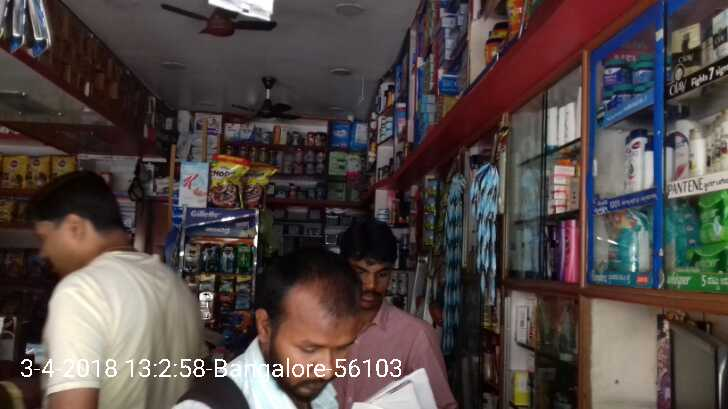vicks: (604, 61, 627, 83), (635, 60, 655, 83), (614, 84, 632, 108), (596, 91, 611, 115), (635, 86, 653, 96)
